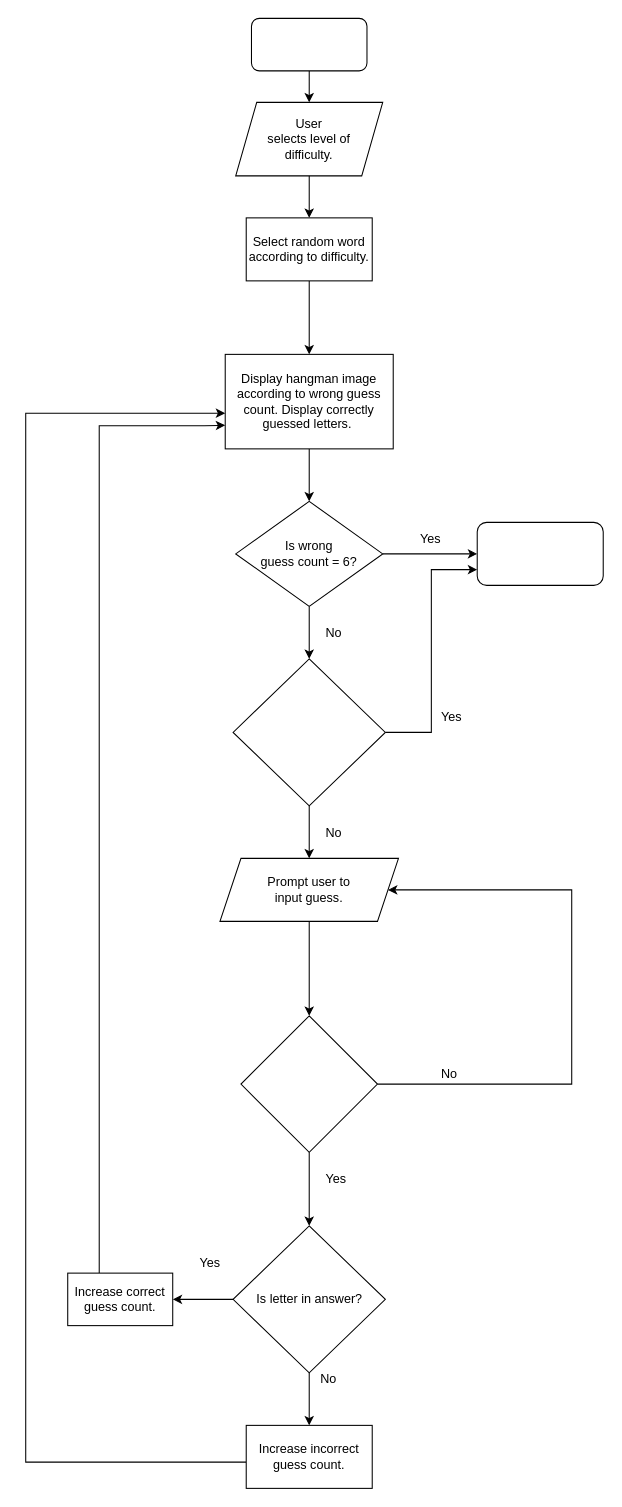
Some shapes in this 622 by 1507 pixel diagram are drawn without their labels. The shapes that lost their labels are listed below. From the top down, each one's centre as x and y in pixels, then its label:
At point 308,44: "Welcome message.".
At point 539,553: "Exit game.".
At point 308,732: "Are game points = length of answer?".
At point 308,1083: "Did user input lowercase letter?".
